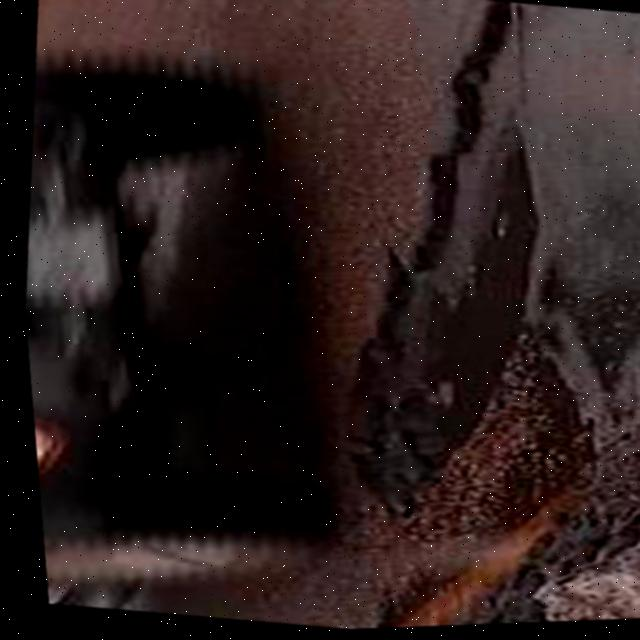Pothole: (302, 233, 560, 533)
